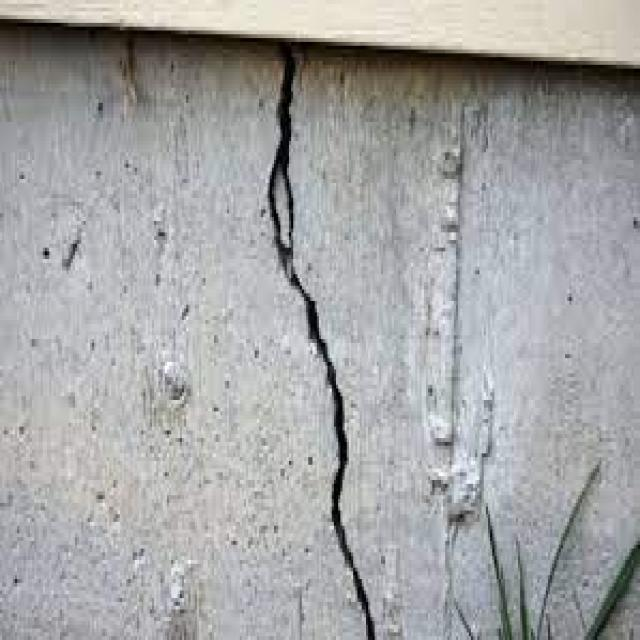Crack: (263, 34, 375, 636)
